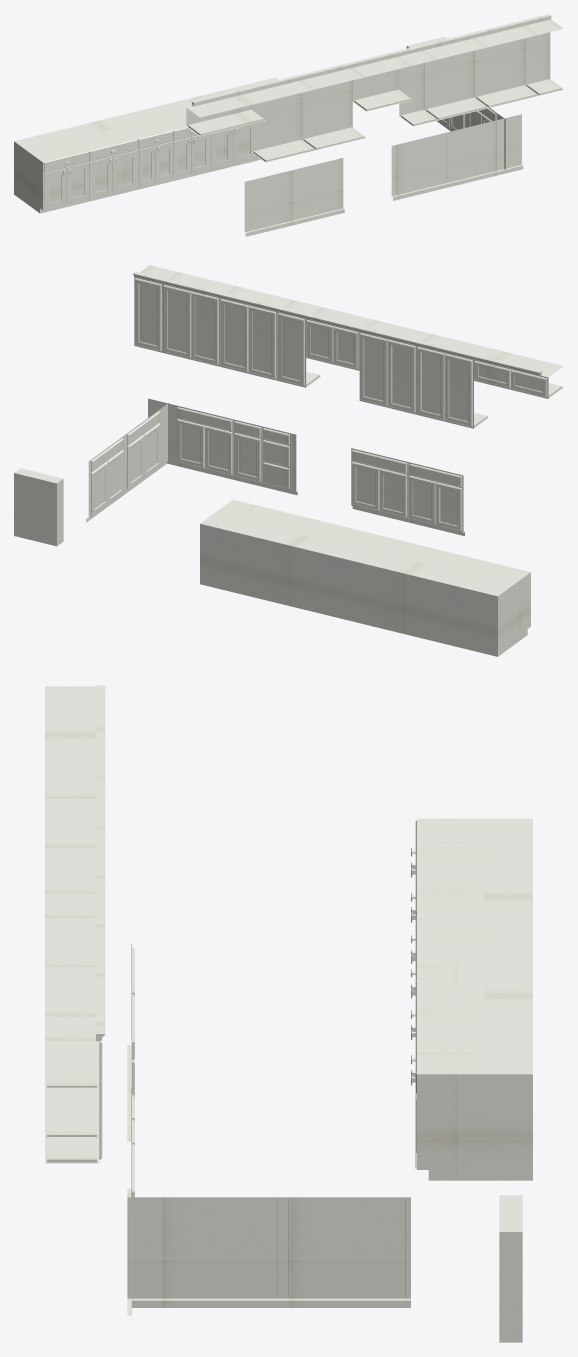
File: cabinets_linen.glb
3 views of the same model, one above another, from view 1: azimuth 30°, elevation 25°; view 2: azimuth 150°, elevation 25°; view 3: azimuth 270°, elevation 25° (orthographic). The views are drawn at different scales.
Parts seen in each view (by area): view 1: Kitchen Cabinets Linen; view 2: Kitchen Cabinets Linen; view 3: Kitchen Cabinets Linen.
Boxes of the visible parts, left/top/right/bottom form: Kitchen Cabinets Linen: left=14, top=14, right=563, bottom=236; Kitchen Cabinets Linen: left=14, top=265, right=563, bottom=656; Kitchen Cabinets Linen: left=45, top=685, right=532, bottom=1342.
Size of the model in its own units: 8.5 by 2.93 by 4.2.
Materials: 1 (1 with a texture image).
